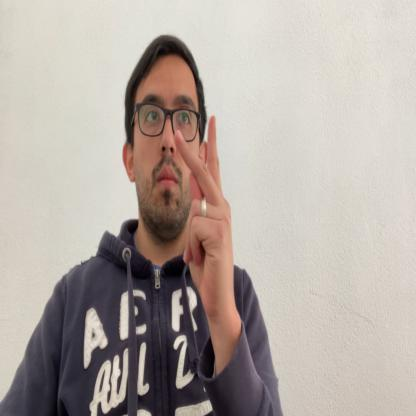P: (175, 115, 233, 310)
